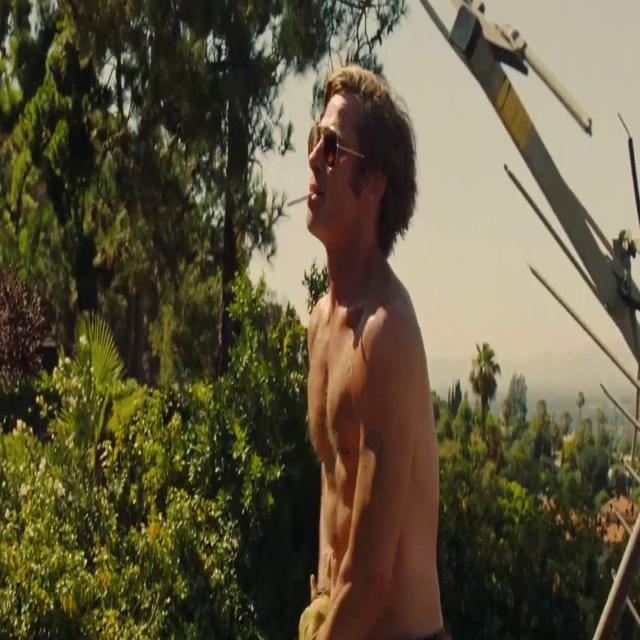Smooking: (282, 182, 312, 210)
